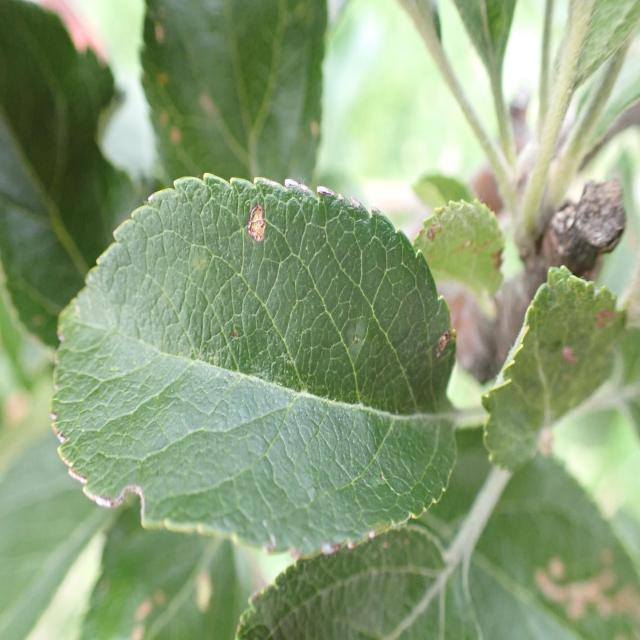Black Rot: (222, 196, 286, 256)
